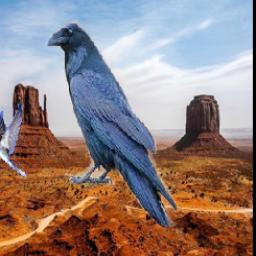Crow: (45, 20, 178, 228)
Swallow: (0, 101, 28, 180)
